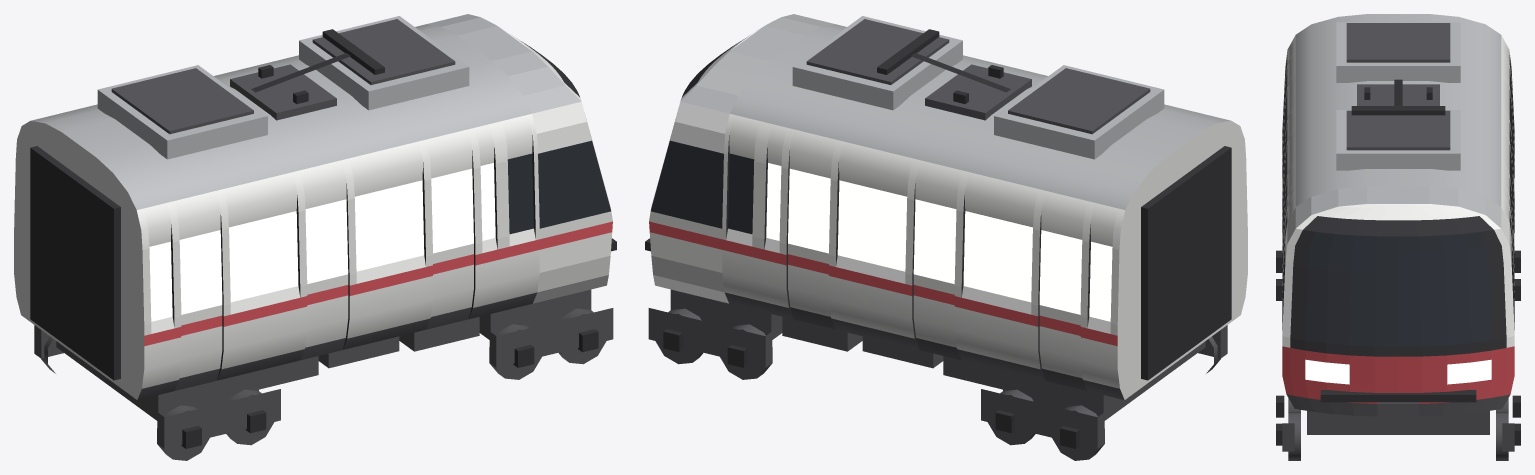
The model's file is tmb6000_cab.glb.
3 views of the same model, side by side, from view 1: azimuth 30°, elevation 25°; view 2: azimuth 150°, elevation 25°; view 3: azimuth 270°, elevation 25° (orthographic). The views are drawn at different scales.
Visible parts, largest first — view 1: TMB6000_cab; view 2: TMB6000_cab; view 3: TMB6000_cab.
Part boxes in pixels (x1=…): TMB6000_cab: x1=14, y1=14, x2=616, y2=460; TMB6000_cab: x1=645, y1=14, x2=1247, y2=460; TMB6000_cab: x1=1276, y1=14, x2=1520, y2=460.
Size of the model in its own units: 0.501 by 0.295 by 0.236.
